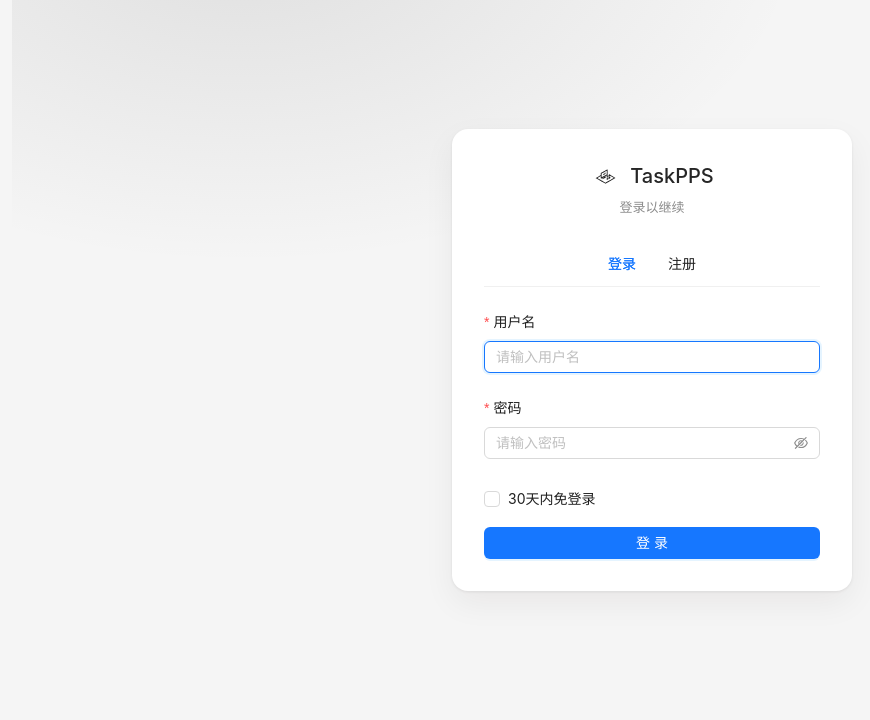
Scenario: LoginPage (issue #204) › TC-W176: 注册冲突 409 显示「该用户名已被注册」
The image size is (870, 720).
Click the tab "注册" at {"x": 682, "y": 264}, box [668,253,696,275]
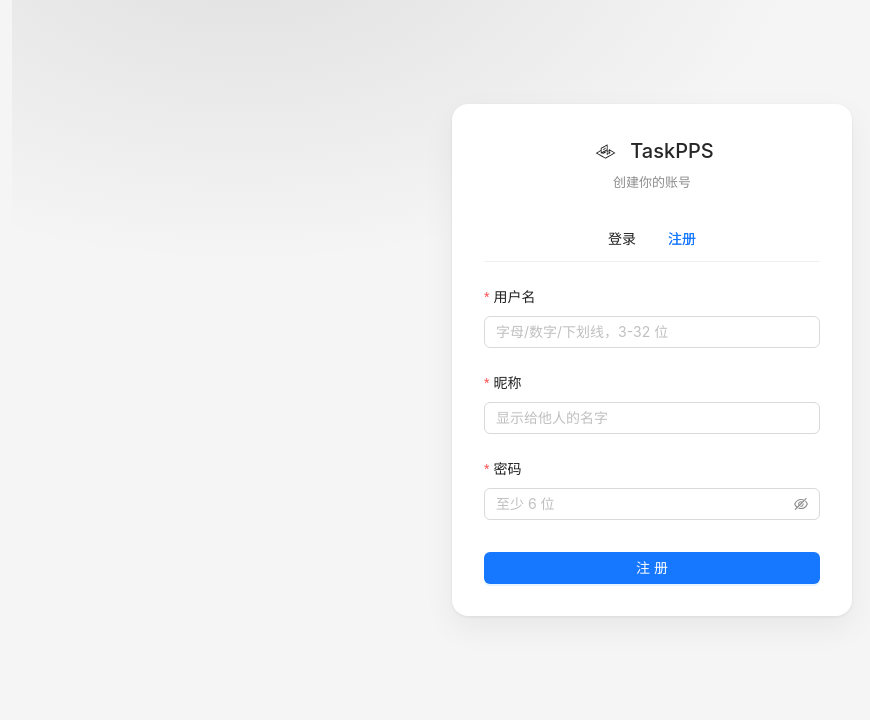
Expected: the field with placeholder "显示给他人的名字" is shown, [484,402,820,434]
Type "alice" into the field with placeholder "字母/数字/下划线，3-32 位" at {"x": 652, "y": 332}, box [484,316,820,348]
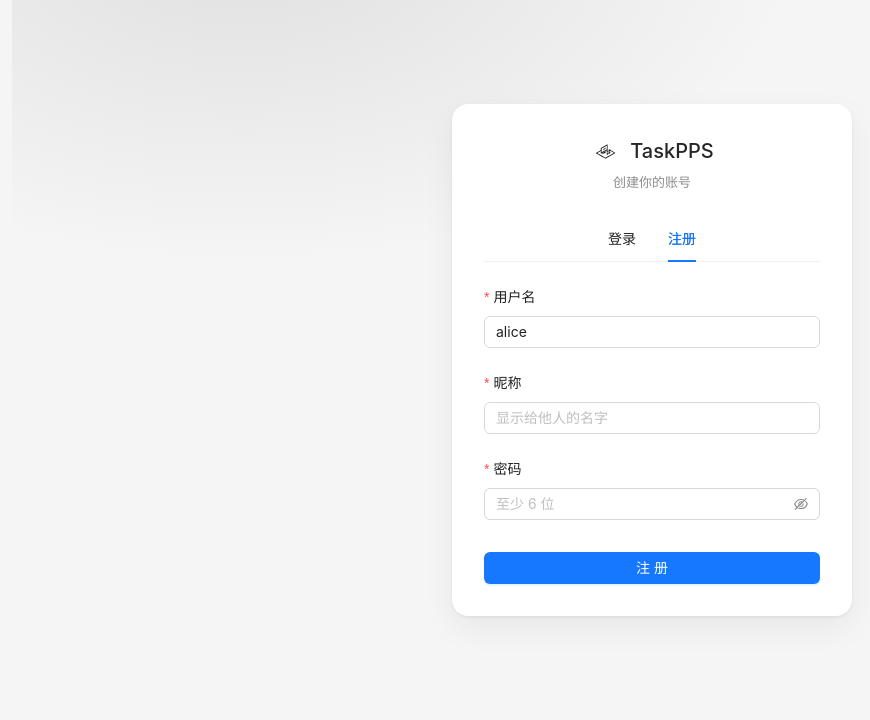
Type "Alice" into the field with placeholder "显示给他人的名字" at {"x": 652, "y": 418}, box [484,402,820,434]
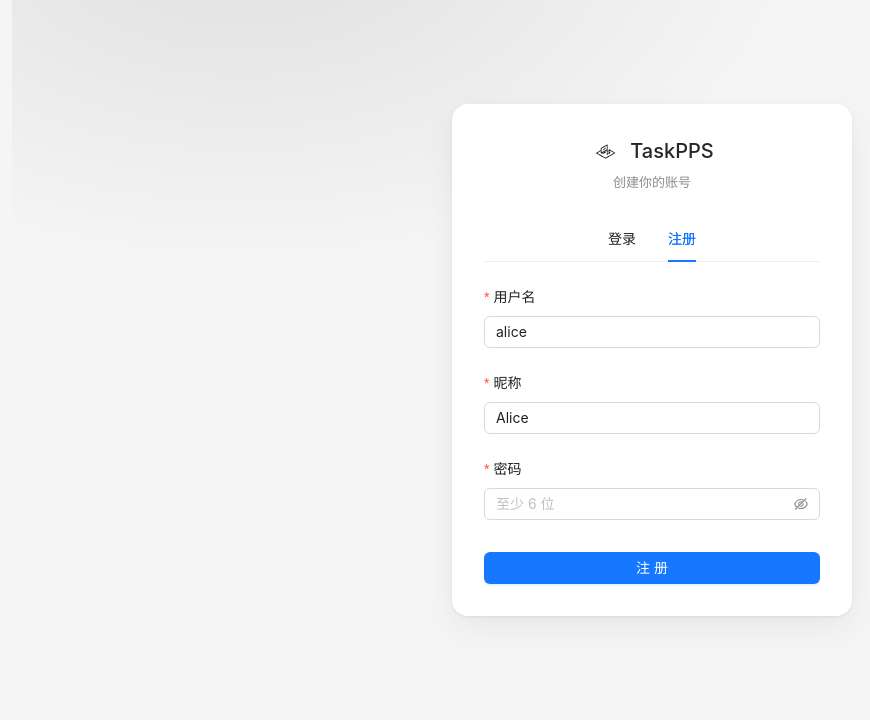
Type "pass123" into the password field with placeholder "至少 6 位" at {"x": 643, "y": 504}, box [496,493,790,515]
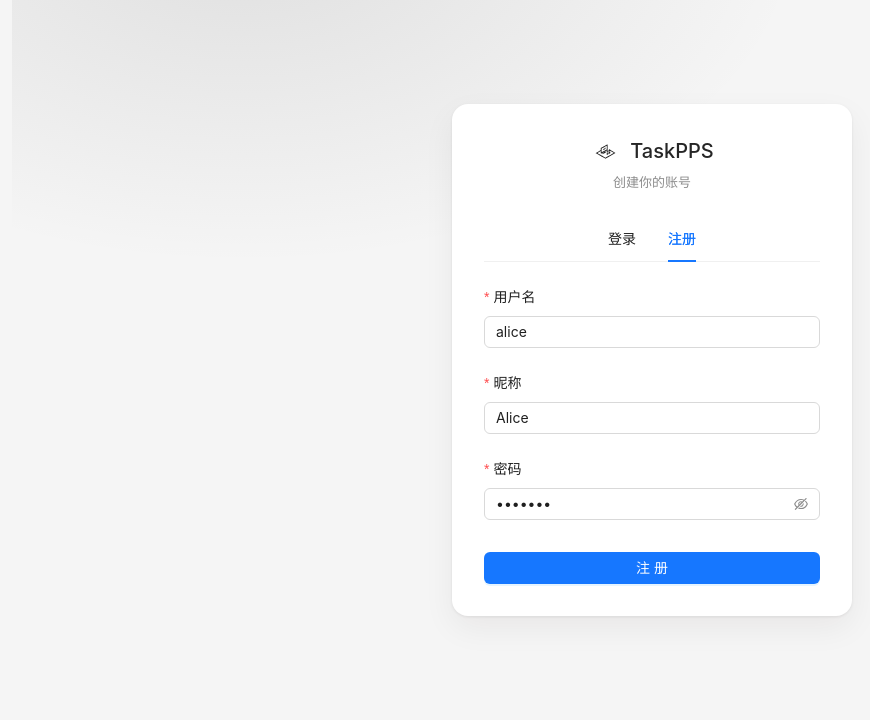
Click the submit button at {"x": 652, "y": 568}, box [484,552,820,584]
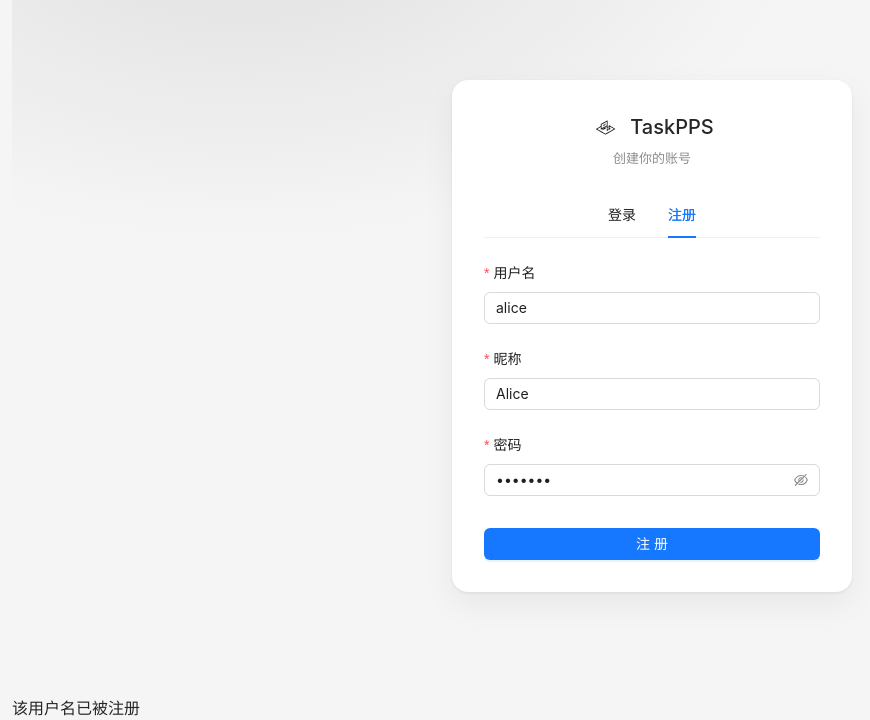
Expected: the text "该用户名已被注册" is shown, [12,698,140,718]
